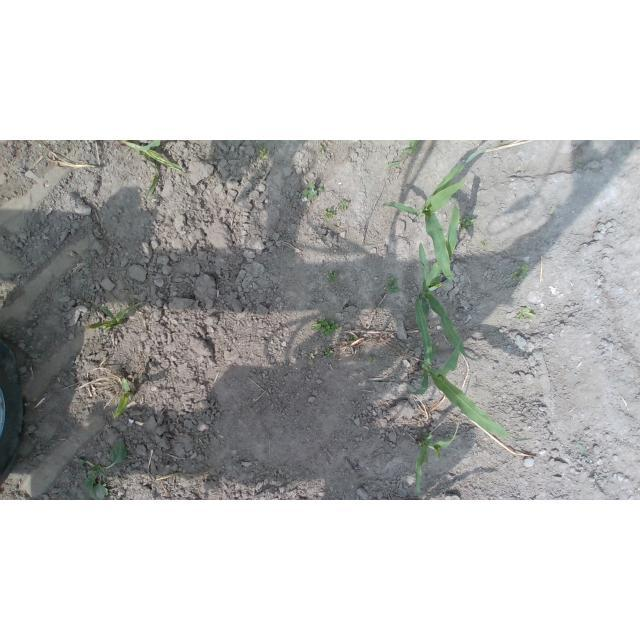Maize: (408, 293, 533, 444), (383, 149, 487, 283), (411, 198, 481, 395), (415, 423, 461, 493), (88, 299, 145, 332), (385, 141, 419, 170), (114, 377, 130, 418)
Weeds: (73, 440, 128, 501), (311, 316, 340, 337), (301, 181, 324, 201), (511, 263, 529, 281), (459, 216, 476, 233), (518, 307, 537, 321), (384, 277, 399, 294), (324, 208, 336, 221), (256, 148, 268, 161), (327, 269, 338, 283), (339, 200, 349, 211), (323, 348, 333, 357), (305, 352, 316, 360), (369, 356, 378, 365), (432, 345, 438, 358), (480, 240, 488, 248), (319, 146, 326, 155), (423, 432, 430, 440), (349, 336, 356, 344), (498, 140, 506, 146)
